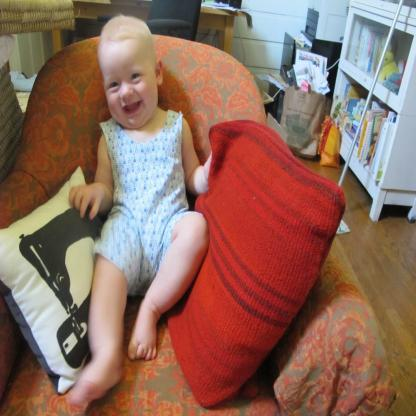book: (337, 82, 395, 180), (353, 25, 387, 74), (365, 112, 385, 163)
